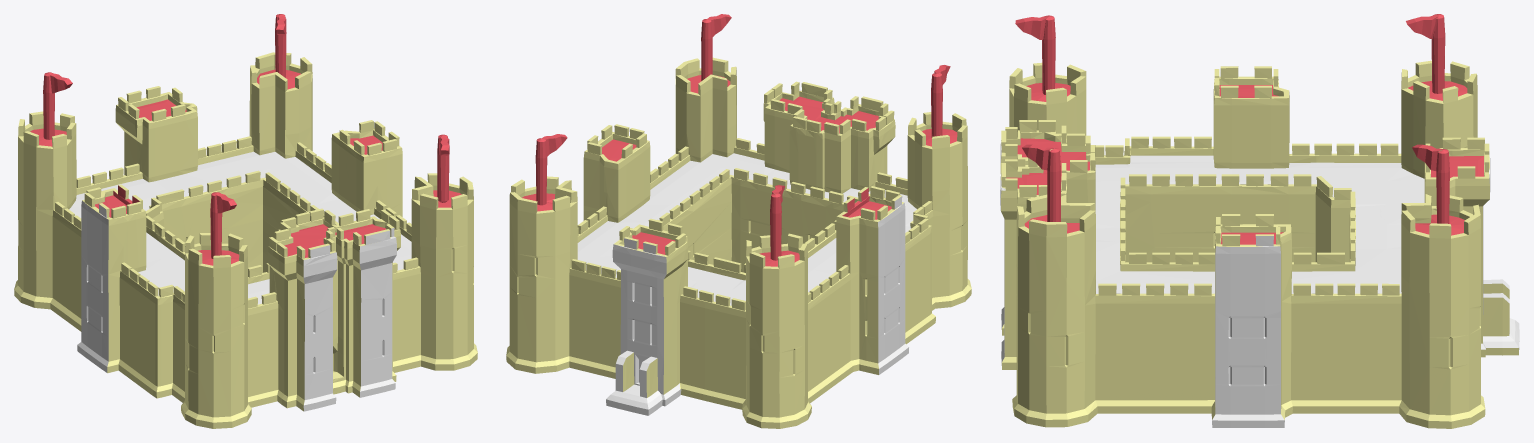
Rendered from Castle.fbx.
The picture shows the model from 3 angles, left to right: view 1: azimuth 30°, elevation 25°; view 2: azimuth 150°, elevation 25°; view 3: azimuth 270°, elevation 25°; orthographic projection. The views are drawn at different scales.
Visible parts, largest first — view 1: Origin; view 2: Origin; view 3: Origin.
Boxes of the visible parts, left/top/right/bottom form: Origin: left=14, top=14, right=477, bottom=428; Origin: left=506, top=14, right=971, bottom=428; Origin: left=1000, top=14, right=1519, bottom=428.
Bounding box in the file's own units: 1043 × 729 × 1310.
